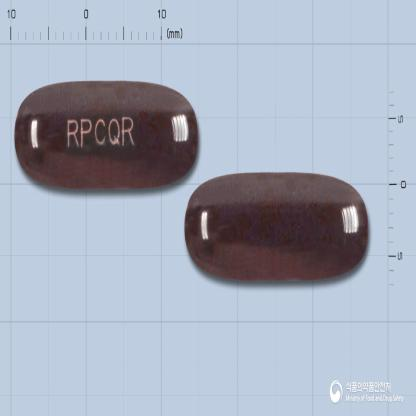pill: (183, 171, 368, 280), (11, 81, 199, 188)
